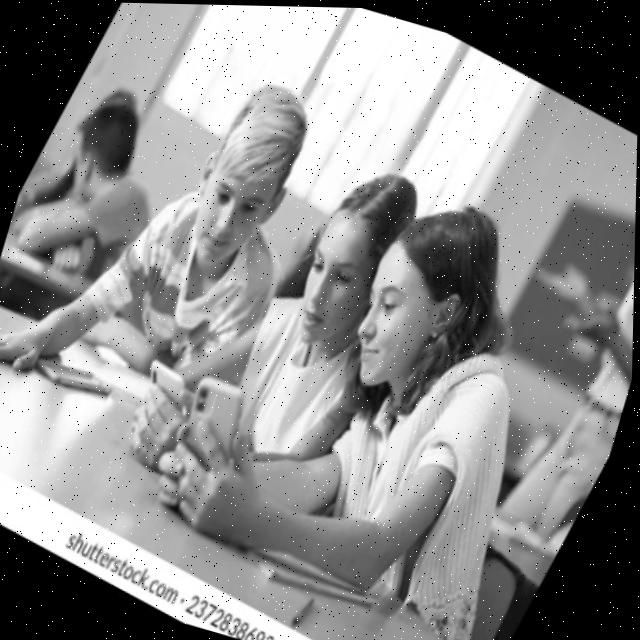phone: (161, 361, 269, 481), (28, 341, 122, 408), (133, 352, 206, 417)
